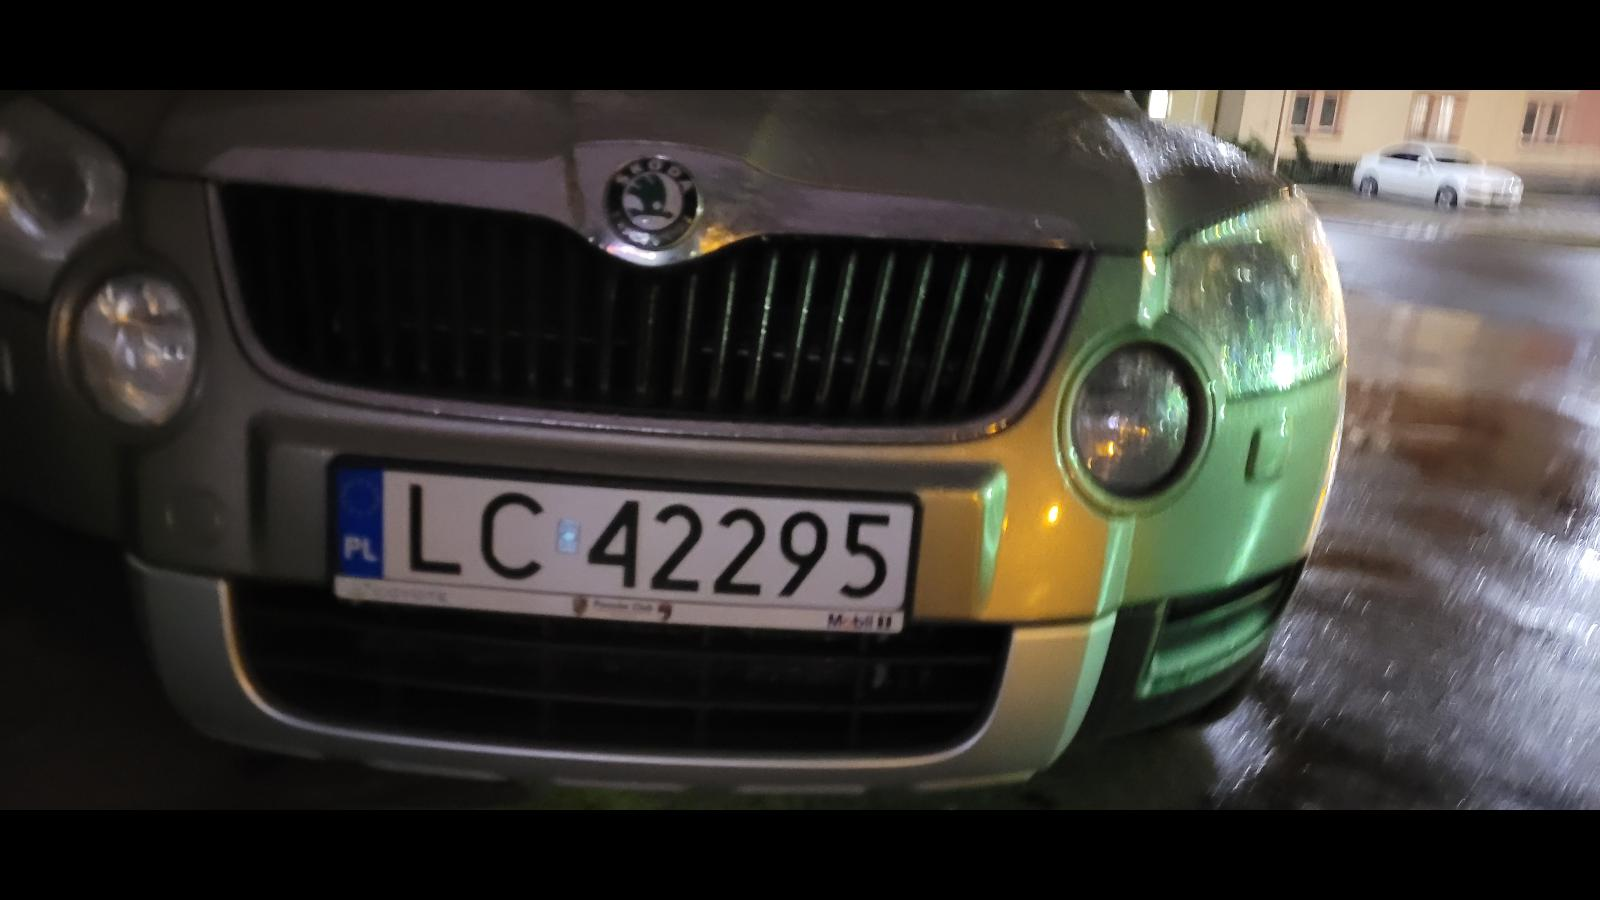plates: (326, 454, 924, 644)
